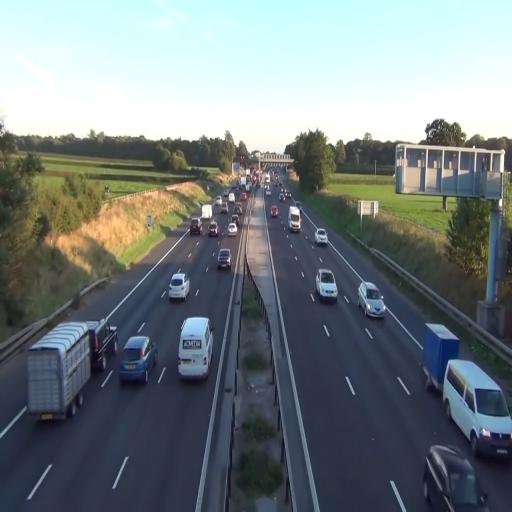vehicle: (443, 357, 512, 460), (26, 322, 93, 423), (422, 444, 490, 512), (420, 320, 461, 395), (177, 317, 213, 381), (118, 334, 158, 386), (358, 280, 385, 318), (314, 268, 338, 304), (169, 270, 190, 301), (217, 247, 231, 271), (189, 216, 202, 236), (315, 229, 328, 245), (208, 222, 220, 238), (228, 215, 238, 234)
